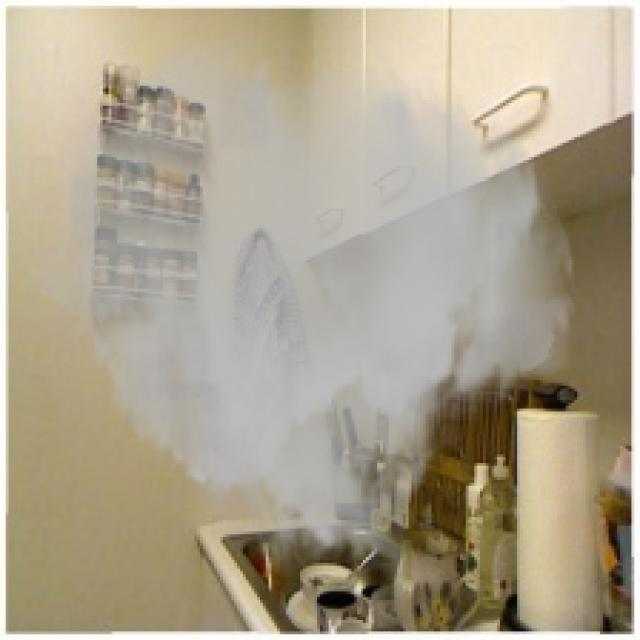Smoke: (26, 34, 580, 589)
